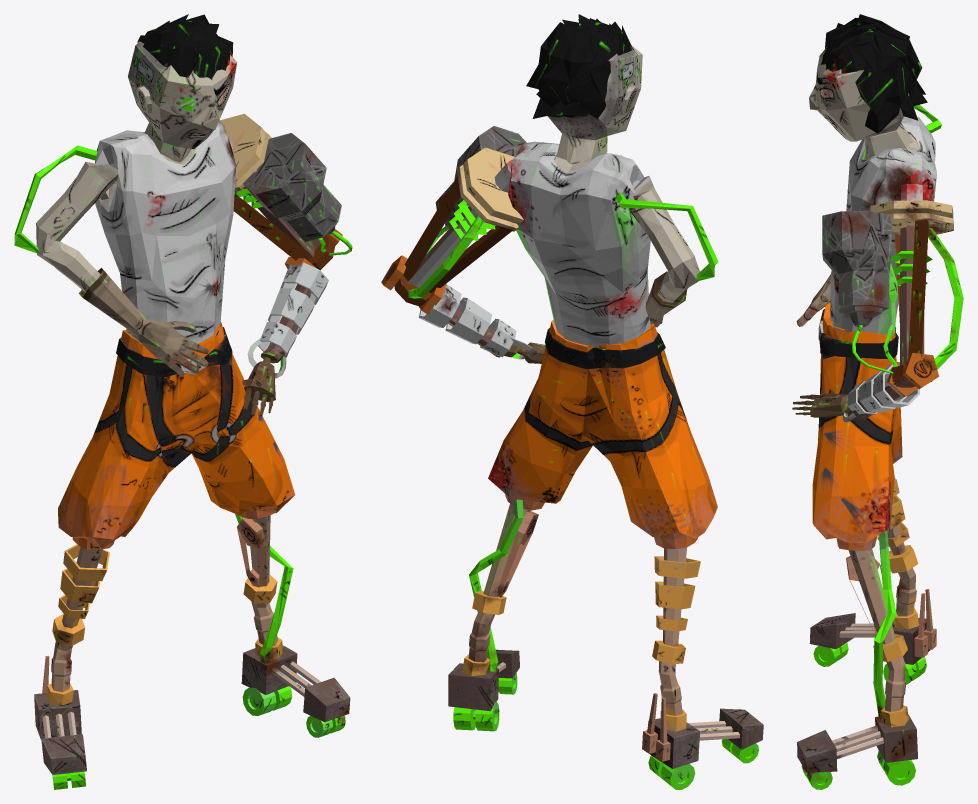
Rendered from CyborgFINALAnimation_000018.obj.
3 renders of one model, left to right at view 1: azimuth 30°, elevation 25°; view 2: azimuth 150°, elevation 25°; view 3: azimuth 270°, elevation 25°, orthographic. The views are drawn at different scales.
Visible parts, largest first — view 1: CyborgMesh_Cube.002; view 2: CyborgMesh_Cube.002; view 3: CyborgMesh_Cube.002.
Boxes of the visible parts, <box> form: CyborgMesh_Cube.002: <box>14,14,352,789</box>; CyborgMesh_Cube.002: <box>381,14,763,789</box>; CyborgMesh_Cube.002: <box>792,14,963,789</box>.
Bounding box in the file's own units: 4.63 × 9.61 × 2.1.
